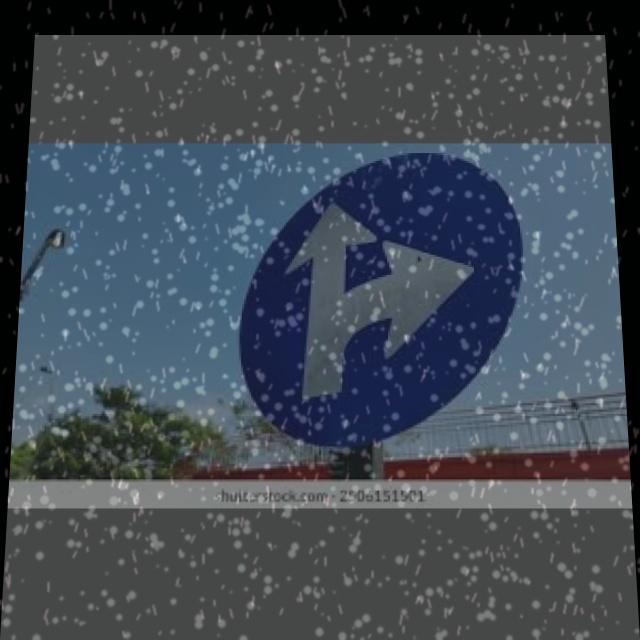Compulsory_Ahead_or_Turn_Right: (243, 163, 521, 453)
